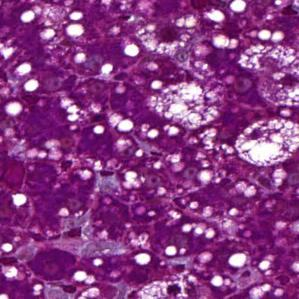ballooning: (144, 80, 227, 132), (234, 116, 298, 172)
